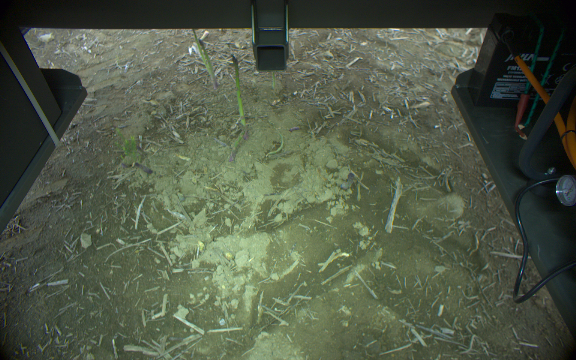aspa: (229, 51, 246, 132), (199, 39, 218, 89), (190, 29, 202, 55)
